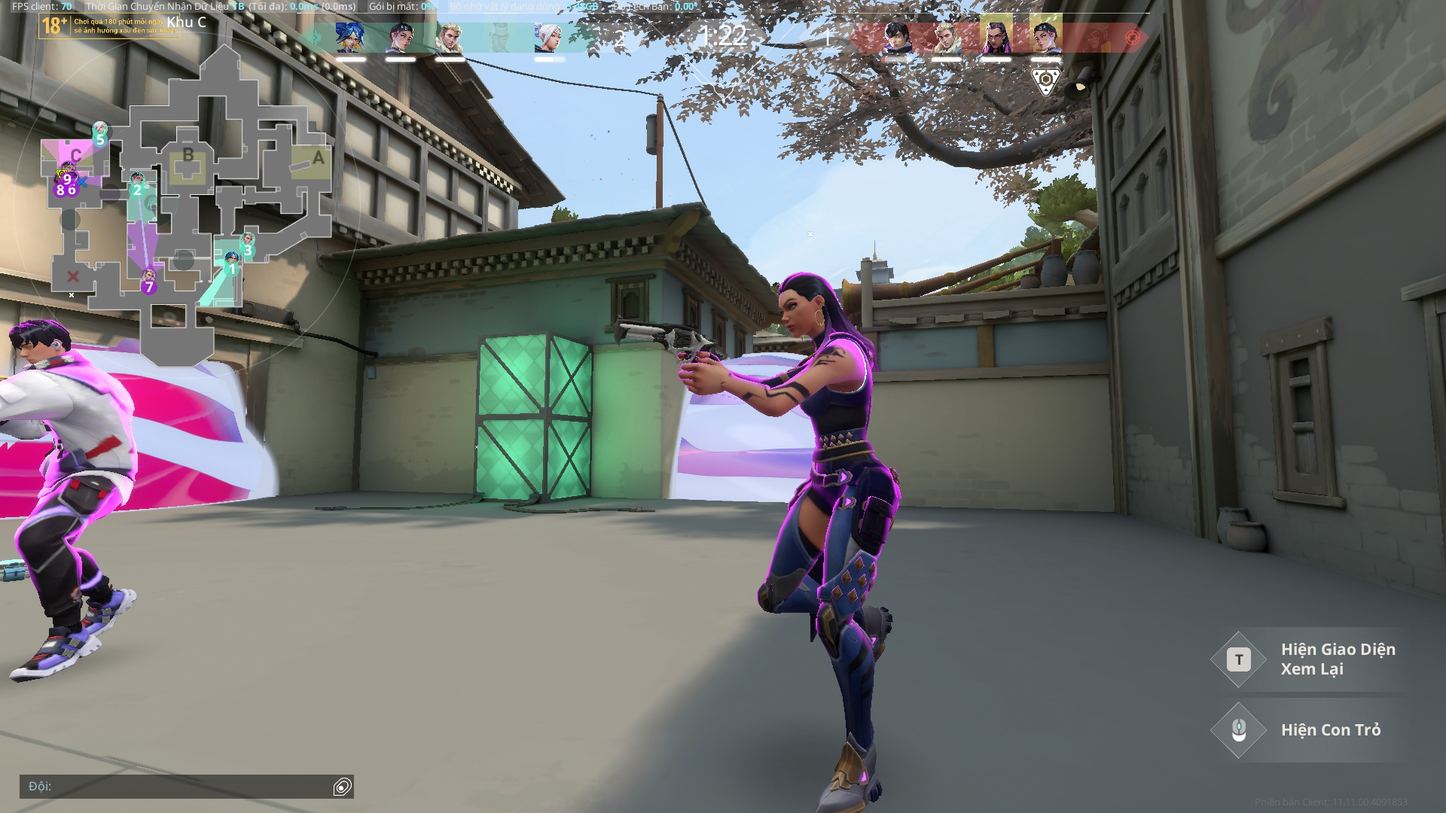body: (25, 364, 142, 478), (799, 330, 884, 458)
head: (769, 271, 842, 337), (4, 314, 72, 364)
